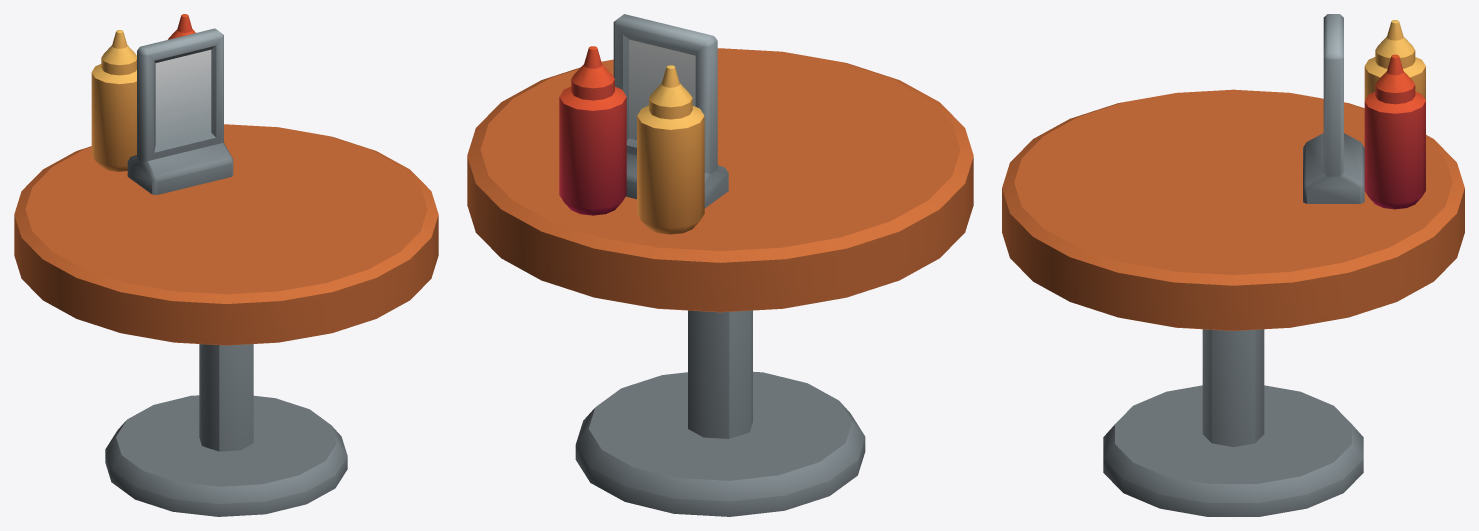
File: Table Round A Small 2.glb
The picture shows the model from 3 angles, left to right: view 1: azimuth 30°, elevation 25°; view 2: azimuth 150°, elevation 25°; view 3: azimuth 270°, elevation 25°; orthographic projection. The views are drawn at different scales.
Parts seen in each view (by area): view 1: table_round_A_small_decorated; view 2: table_round_A_small_decorated; view 3: table_round_A_small_decorated.
Part boxes in pixels (x1,y1,x2,y2): table_round_A_small_decorated: (14,14,438,516); table_round_A_small_decorated: (467,14,973,516); table_round_A_small_decorated: (1002,14,1464,516).
Bounding box in the file's own units: 1.5 × 1.53 × 1.5.
Materials: 1 (1 with a texture image).
